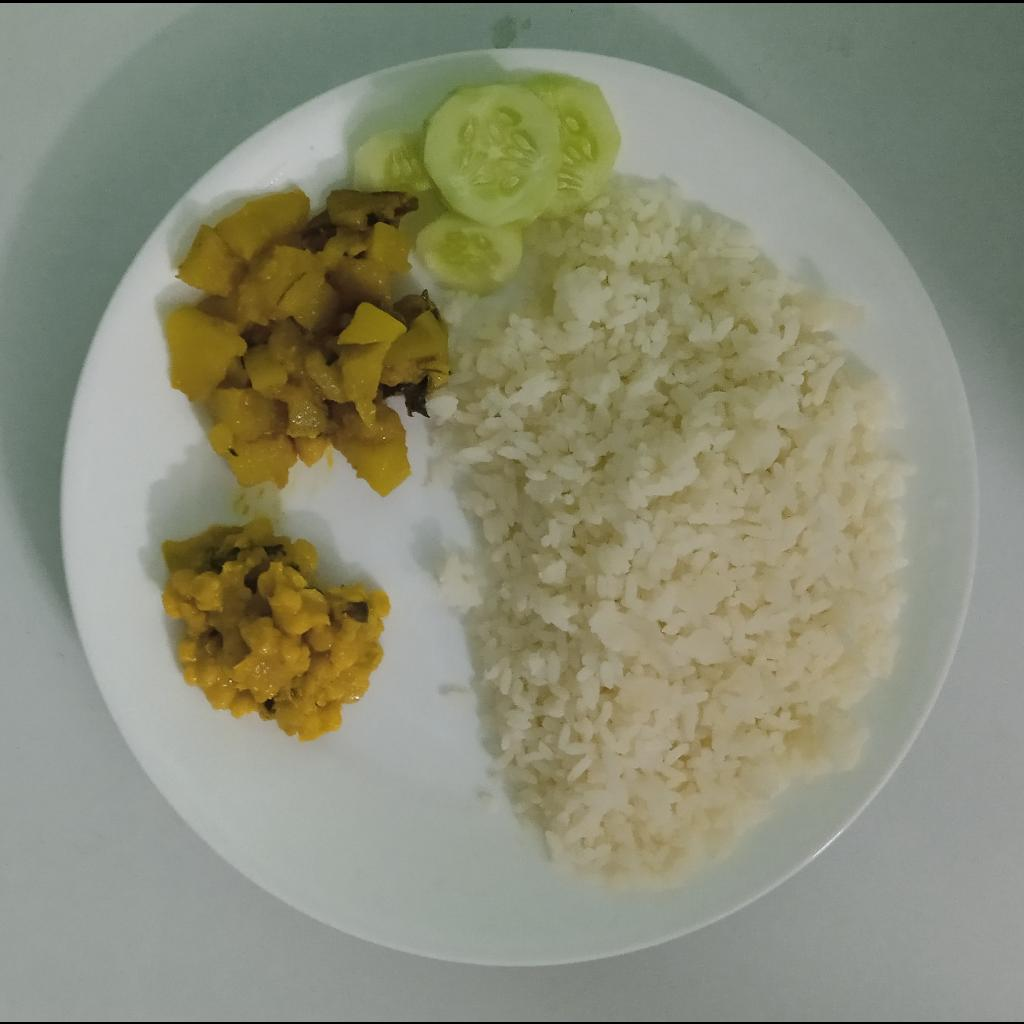cucumber: (352, 69, 623, 296)
daal: (159, 515, 392, 745)
kumra-vaji: (165, 187, 451, 499)
rice: (431, 173, 916, 882)
